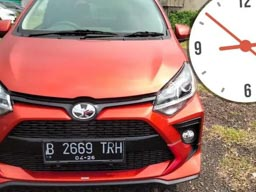plat: (41, 140, 124, 153)
